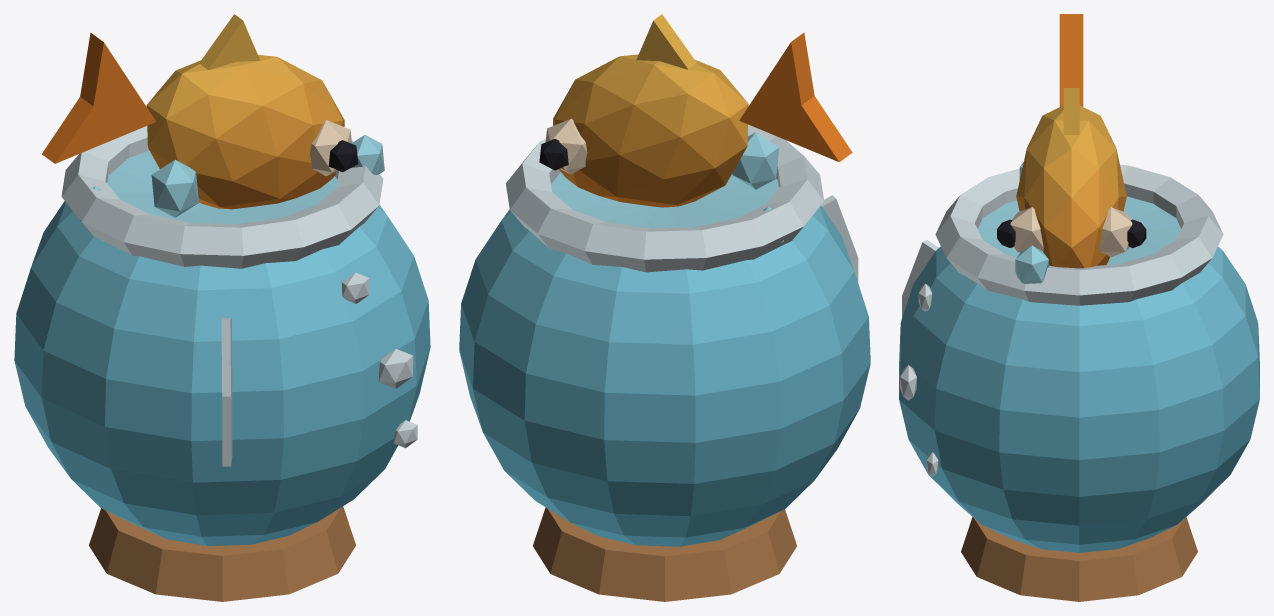
Rendered from habitat_prop_catfish.fbx.
The picture shows the model from 3 angles, left to right: view 1: azimuth 30°, elevation 25°; view 2: azimuth 150°, elevation 25°; view 3: azimuth 270°, elevation 25°; orthographic projection. The views are drawn at different scales.
Parts seen in each view (by area): view 1: habitat_prop_catfish; view 2: habitat_prop_catfish; view 3: habitat_prop_catfish.
Part boxes in pixels (x1,y1,x2,y2): habitat_prop_catfish: (14, 14, 430, 601); habitat_prop_catfish: (459, 14, 870, 601); habitat_prop_catfish: (899, 14, 1259, 601).
Size of the model in its own units: 0.9364 by 1.34 by 0.9129.
